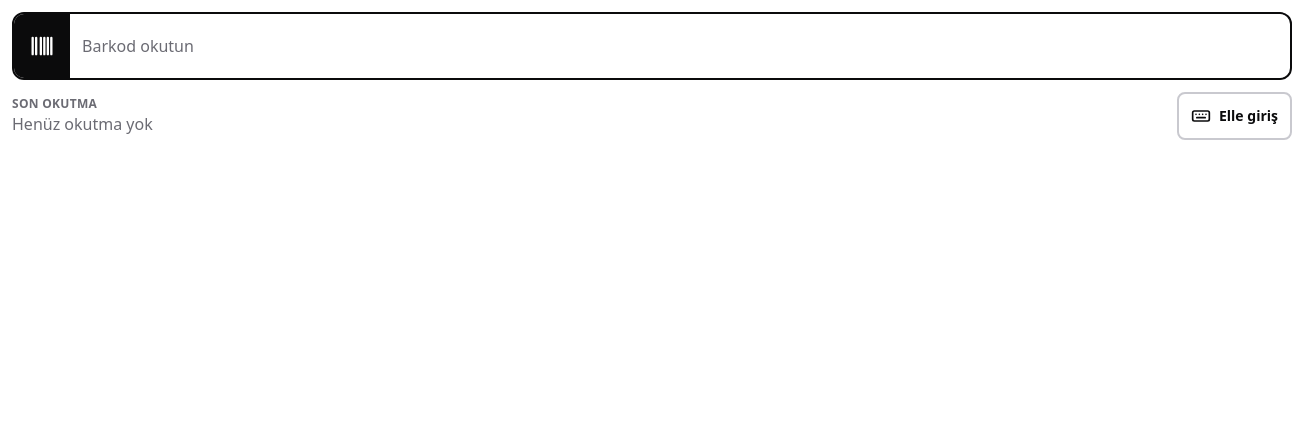
Scenario: <ScanInput> › manual entry › requires a reason code and marks the scan as manual
Click the button "Elle giriş" at (1234, 116), box [1177, 92, 1292, 140]
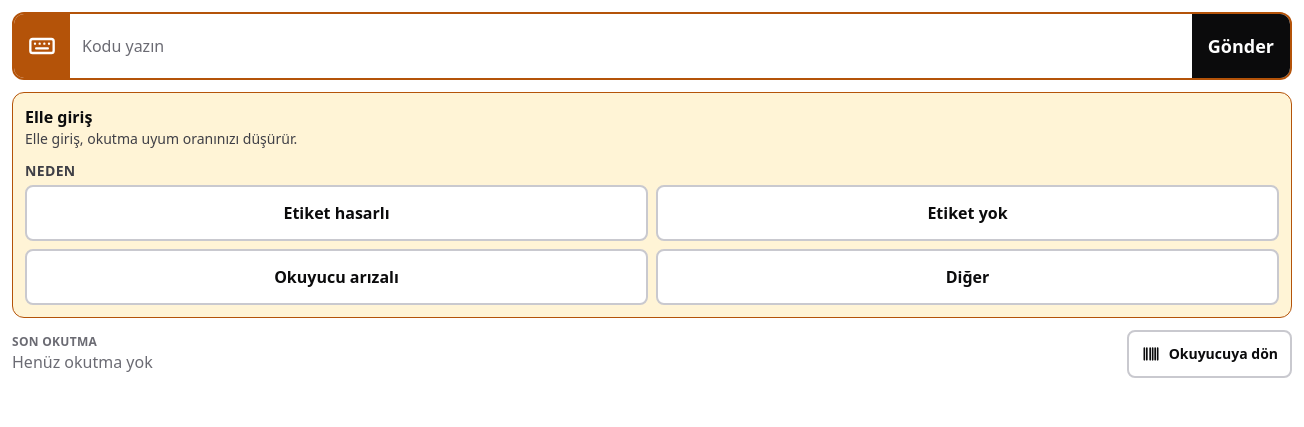
Expected: the element with test id "manual-panel" is shown, [12, 92, 1292, 318]
Note: No reason yet: refused, text kept.
Type "tz-b03-l12" into the field with test id "scan-input" at (631, 46), box [70, 14, 1192, 78]
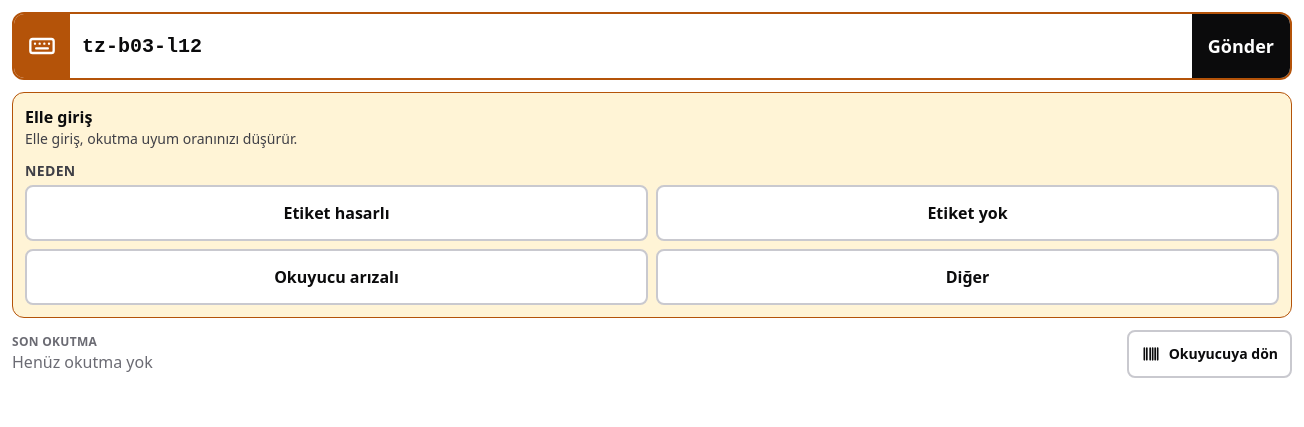
Click the button "Gönder" at (1241, 46), box [1192, 14, 1290, 78]
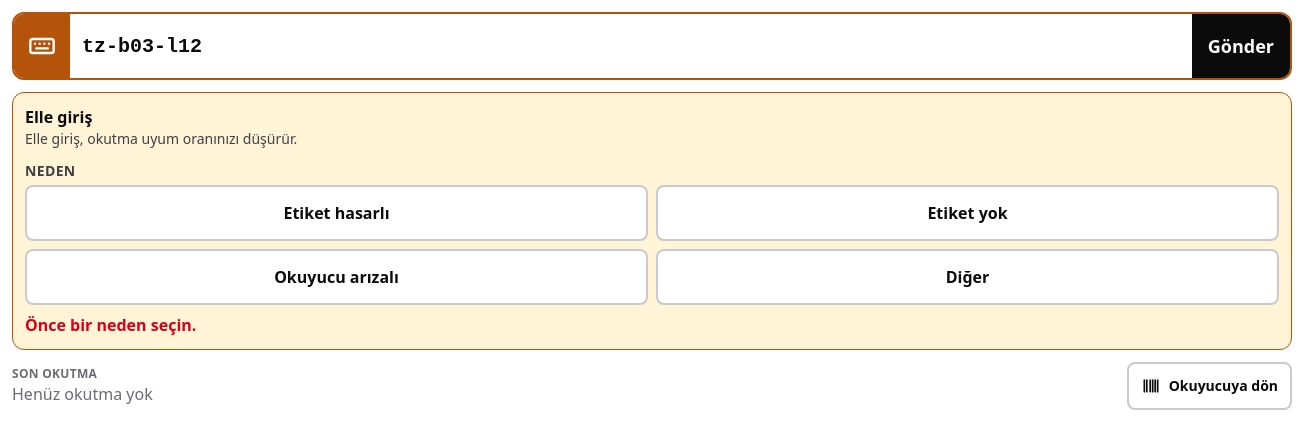
Expected: the message reads "Önce bir neden seçin.", [25, 314, 196, 336]
Click the radio button "Etiket hasarlı" at (336, 213), box [25, 185, 648, 241]
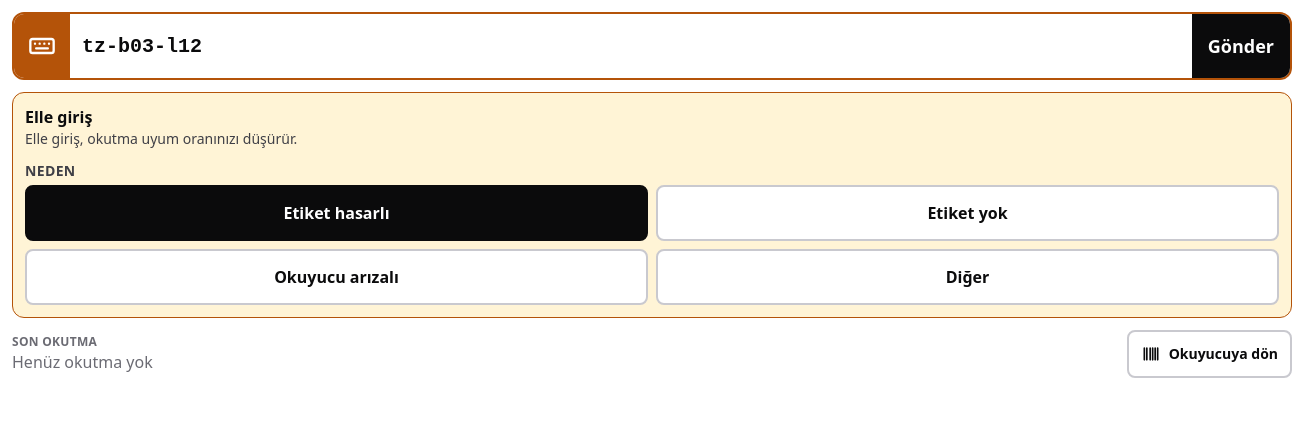
Click the button "Gönder" at (1241, 46), box [1192, 14, 1290, 78]
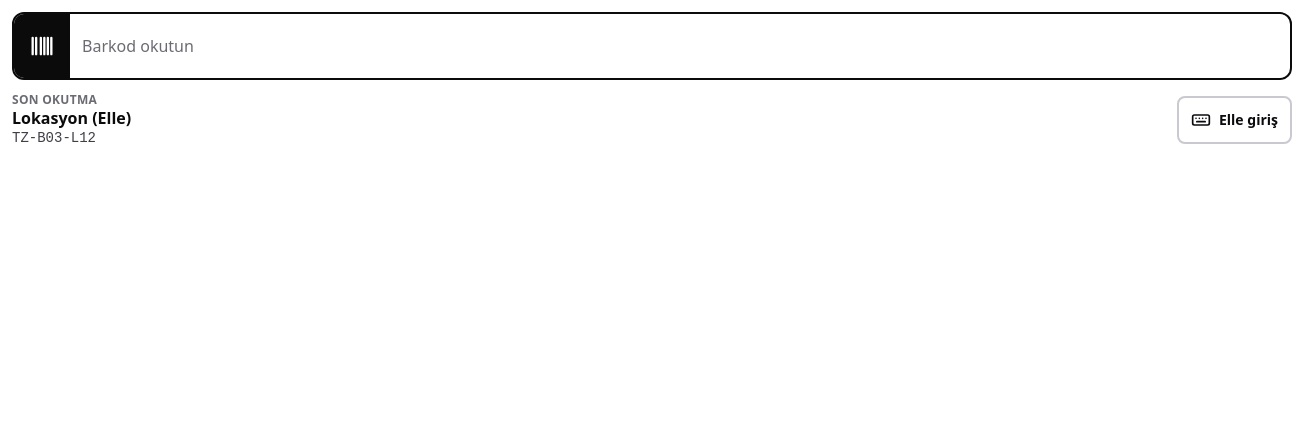
Expected: the element with test id "manual-panel" is gone
Expected: the element with test id "last-scan" shows "Elle", [88, 107, 131, 129]
